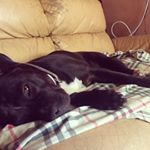puppy: (1, 50, 130, 132)
